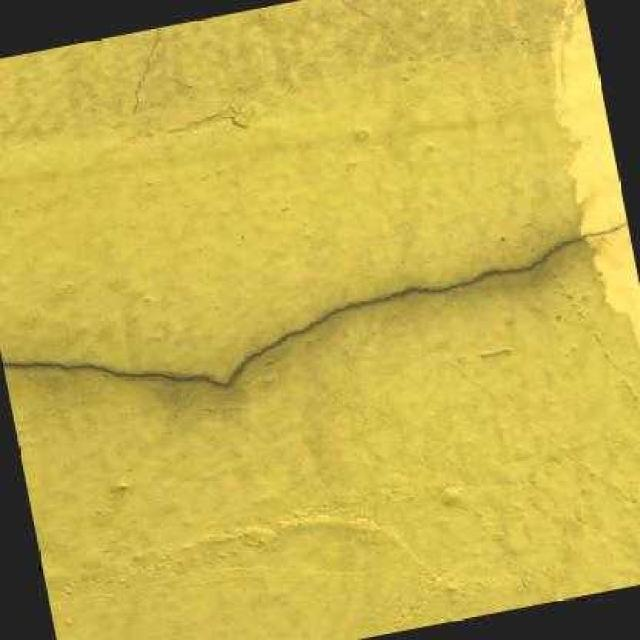D00: (2, 220, 627, 383)
